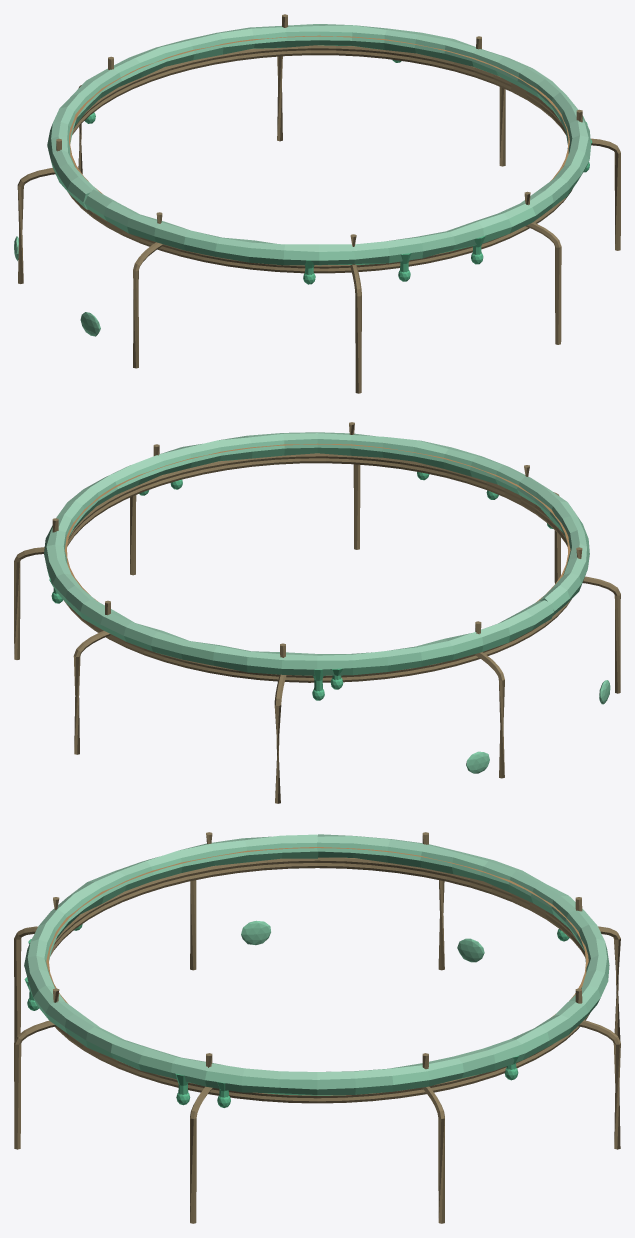
The model's file is goo_jar_trim_1_mid.fbx.
3 views of the same model, one above another, from view 1: azimuth 30°, elevation 25°; view 2: azimuth 150°, elevation 25°; view 3: azimuth 270°, elevation 25° (orthographic). The views are drawn at different scales.
Parts seen in each view (by area): view 1: goo_jar_trim_1_mid; view 2: goo_jar_trim_1_mid; view 3: goo_jar_trim_1_mid.
Part boxes in pixels (x1,y1,x2,y2): goo_jar_trim_1_mid: (14, 14, 620, 393); goo_jar_trim_1_mid: (14, 422, 620, 803); goo_jar_trim_1_mid: (14, 832, 620, 1223).
Bounding box in the file's own units: 60.32 × 16.05 × 58.31.
